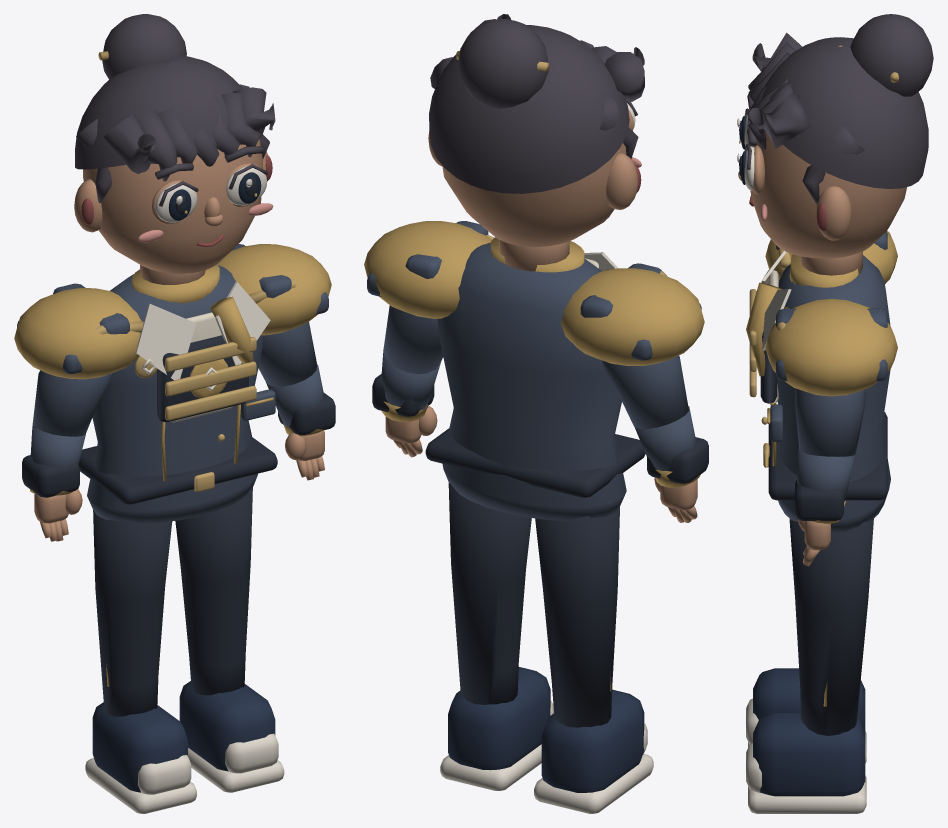
Rendered from elite_iron_royal_guard.glb.
3 views of the same model, side by side, from view 1: azimuth 30°, elevation 25°; view 2: azimuth 150°, elevation 25°; view 3: azimuth 270°, elevation 25° (orthographic). The views are drawn at different scales.
Parts seen in each view (by area): view 1: figure.024; view 2: figure.024; view 3: figure.024.
Boxes of the visible parts, left/top/right/bottom form: figure.024: left=14, top=14, right=335, bottom=813; figure.024: left=364, top=14, right=708, bottom=813; figure.024: left=737, top=14, right=933, bottom=813.
Bounding box in the file's own units: 1.14 × 2.63 × 0.6142.
